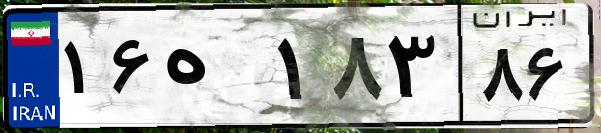1: (270, 28, 330, 110), (57, 26, 110, 100)
3: (385, 28, 445, 110)
6: (525, 38, 570, 115), (110, 28, 158, 98)
8: (330, 28, 385, 110), (475, 38, 525, 113)
ه: (158, 20, 270, 120)
